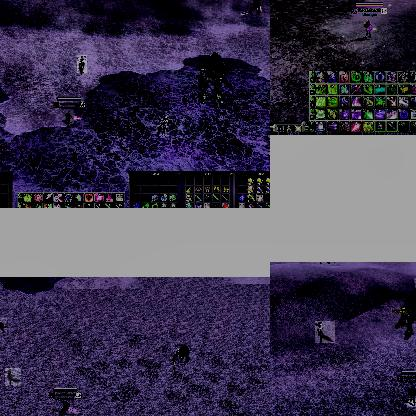caliana: (315, 321, 335, 343), (5, 368, 21, 386), (157, 115, 169, 137), (77, 55, 87, 73), (0, 318, 7, 332)
